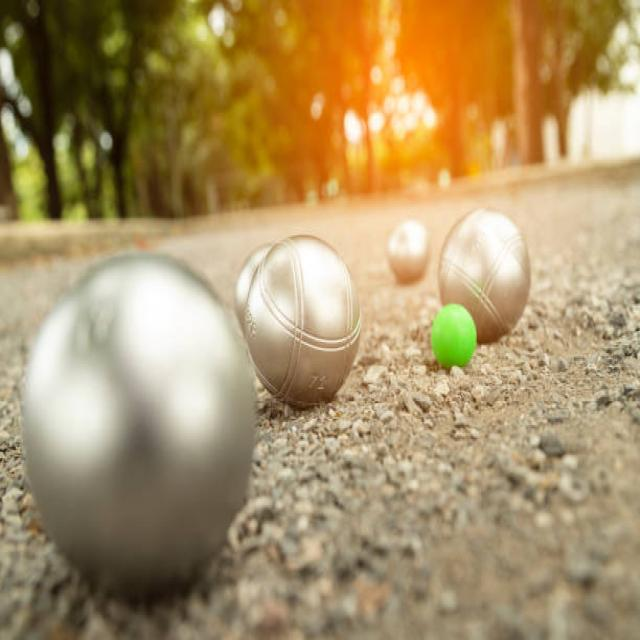hatball: (421, 296, 485, 381)
petanque: (18, 251, 266, 617), (241, 225, 366, 413), (432, 201, 537, 357), (378, 213, 436, 298)
